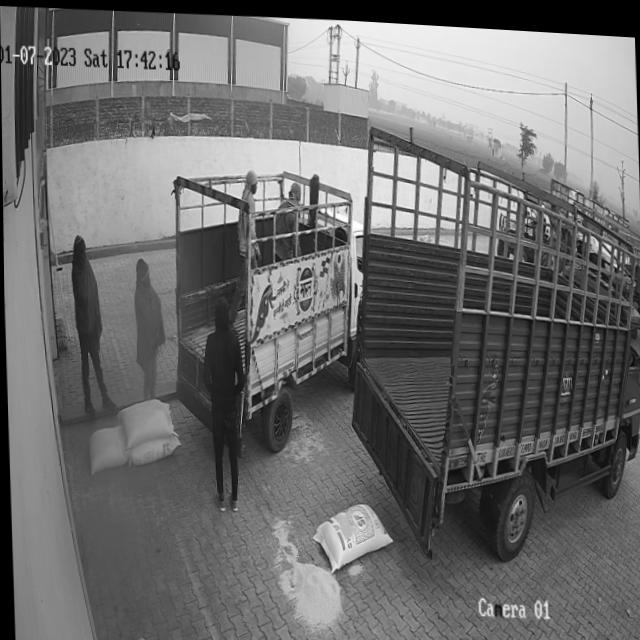sack: (310, 495, 390, 569), (116, 394, 171, 447), (86, 422, 125, 474), (126, 428, 178, 464)
